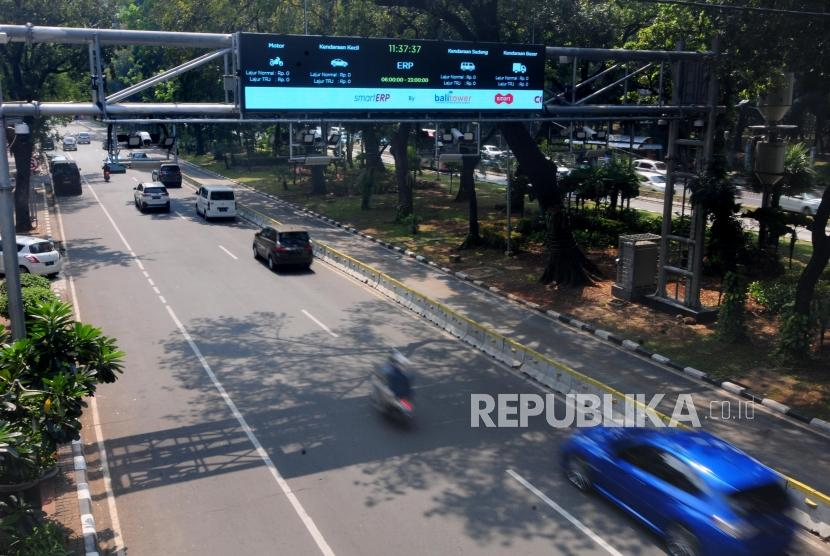car: (558, 421, 803, 556), (253, 225, 311, 275), (1, 231, 62, 276), (194, 184, 237, 223), (46, 154, 83, 194), (135, 184, 171, 213), (153, 162, 179, 189)
motorbike: (371, 349, 418, 430)
